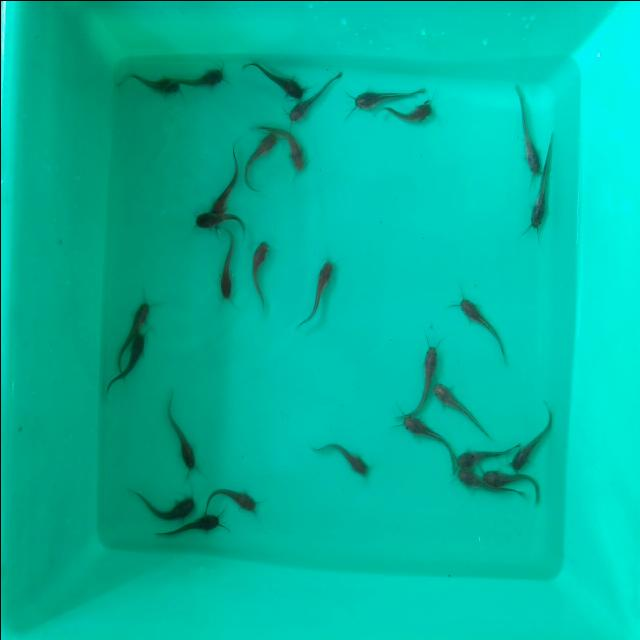lele: (457, 292, 508, 356), (433, 378, 493, 432), (164, 389, 200, 477), (400, 408, 450, 468), (240, 56, 304, 102), (296, 253, 334, 329), (128, 484, 195, 524), (289, 80, 343, 126), (207, 143, 242, 211), (514, 404, 552, 466), (106, 334, 146, 392), (240, 126, 276, 190), (320, 438, 372, 480), (516, 82, 540, 172), (410, 339, 440, 407), (351, 80, 424, 107), (215, 230, 238, 305), (210, 482, 261, 514), (276, 122, 306, 176), (172, 512, 225, 542), (530, 168, 554, 234), (178, 62, 224, 94), (482, 468, 543, 492), (250, 240, 272, 305), (122, 72, 180, 96), (456, 447, 513, 471), (193, 206, 247, 230), (384, 100, 436, 122), (122, 298, 152, 334), (450, 469, 484, 496)
